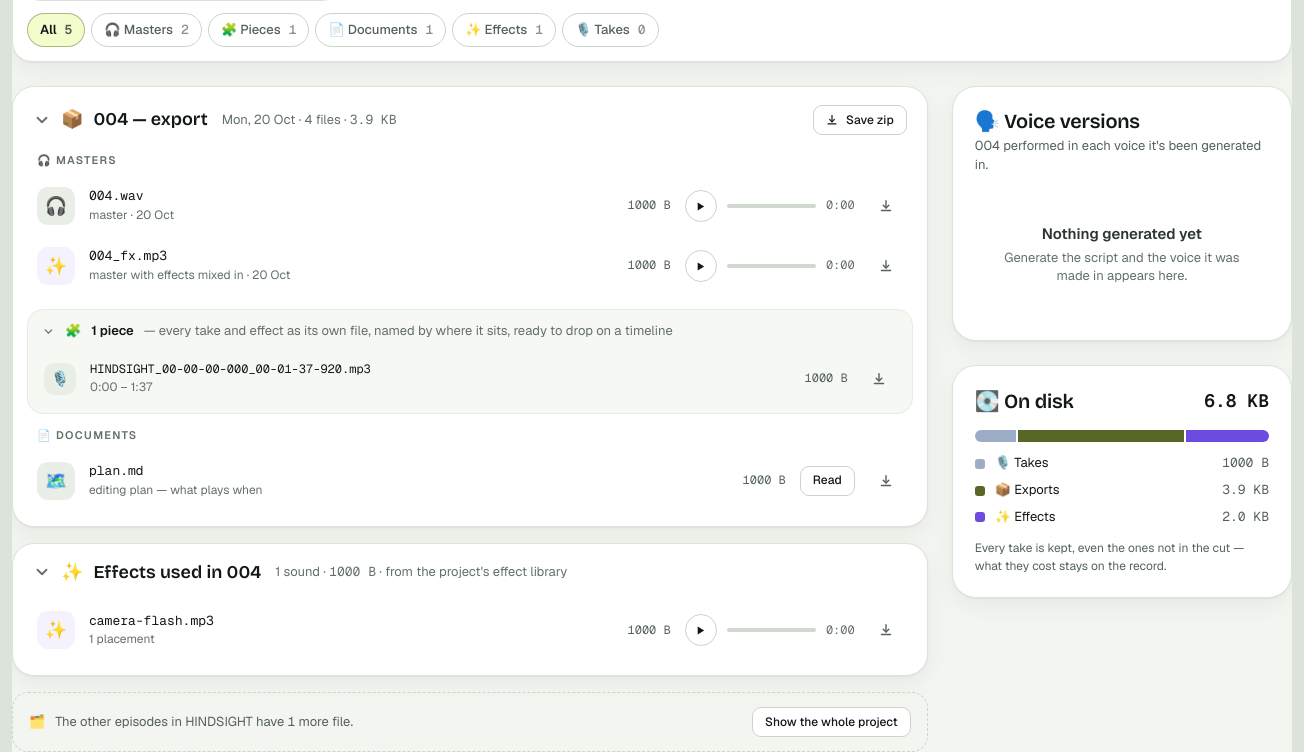
finding a file › shows this episode's files, and the effects it places, until asked for the project
This screenshot has width=1304, height=752.
(page scrolled)
Click the button "Show the whole project": (831, 722) left=752, top=707, right=911, bottom=737
(page scrolled)
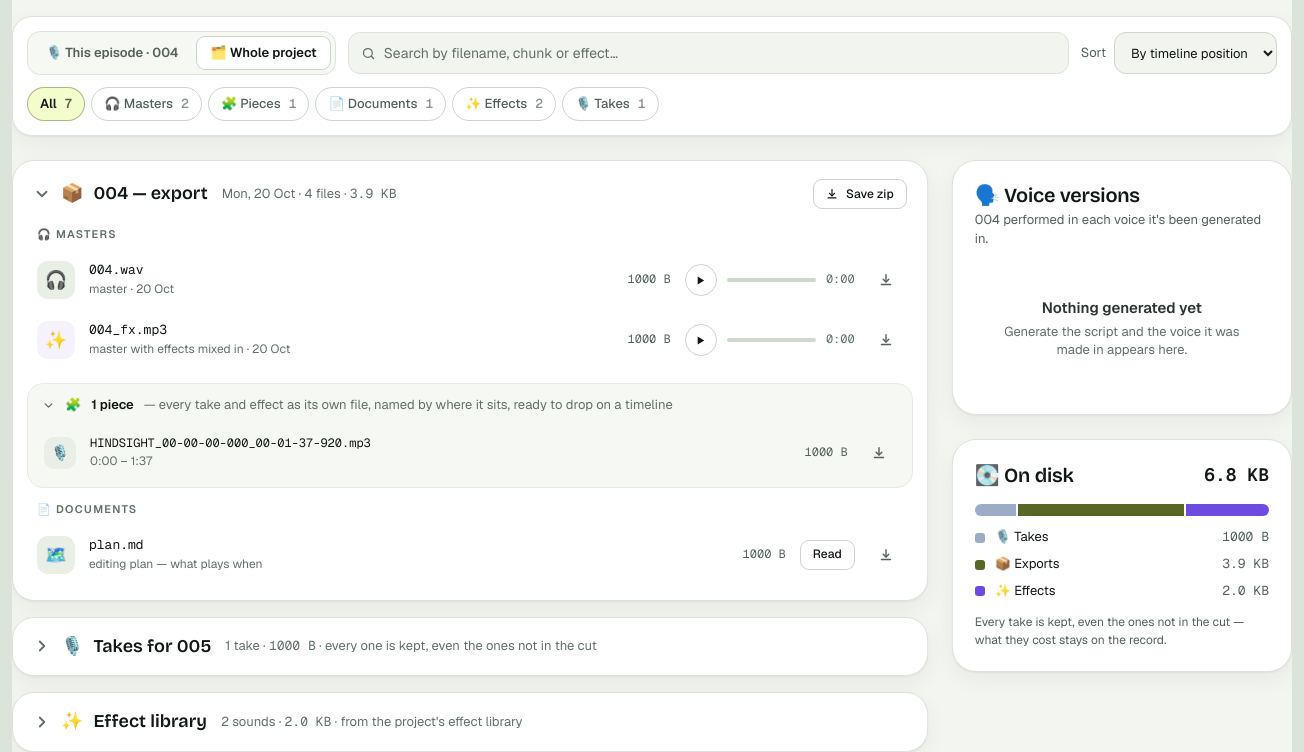
Check: the text "Effect library" is shown, box left=94, top=711, right=207, bottom=733
Check: the text "Takes for 005" is shown, box left=94, top=636, right=211, bottom=657
